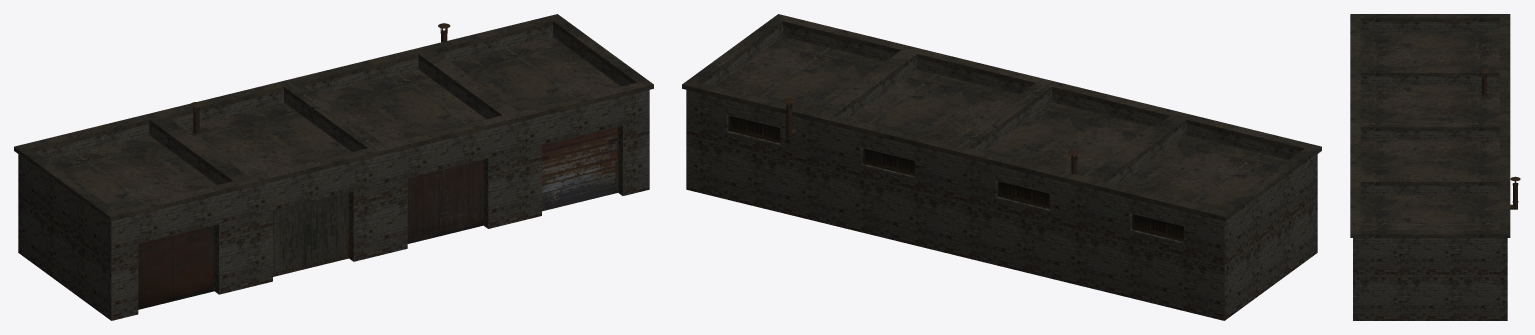
File: garages_block_hr_1.obj
3 renders of one model, left to right at view 1: azimuth 30°, elevation 25°; view 2: azimuth 150°, elevation 25°; view 3: azimuth 270°, elevation 25°, orthographic. The views are drawn at different scales.
Parts seen in each view (by area): view 1: garages_block_hr_1; view 2: garages_block_hr_1; view 3: garages_block_hr_1.
Part boxes in pixels (<box>): garages_block_hr_1: <box>14,14,653,320</box>; garages_block_hr_1: <box>682,14,1321,320</box>; garages_block_hr_1: <box>1350,14,1520,320</box>.
Bounding box in the file's own units: 20.2 × 4.3 × 6.6.
